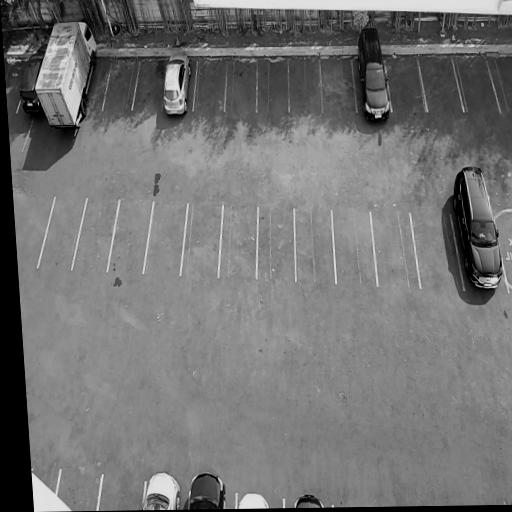Car: (28, 16, 97, 142), (447, 164, 508, 297), (354, 27, 391, 124), (158, 50, 195, 117), (17, 36, 48, 111), (188, 469, 226, 508), (141, 473, 181, 510), (237, 489, 269, 507), (295, 493, 323, 508)
Space Available: (409, 212, 465, 291), (39, 195, 86, 280), (370, 210, 419, 287), (332, 210, 377, 285), (143, 201, 187, 275), (108, 200, 152, 271), (74, 197, 117, 269), (285, 53, 323, 132), (295, 209, 335, 282), (182, 203, 222, 275), (257, 207, 296, 280), (319, 54, 357, 128), (219, 204, 258, 274), (455, 57, 502, 113), (254, 57, 289, 129), (419, 57, 464, 112), (385, 55, 426, 114), (223, 61, 257, 129), (131, 57, 164, 120), (102, 59, 138, 116), (194, 61, 223, 125), (59, 470, 103, 511), (99, 475, 146, 509), (496, 206, 512, 288), (495, 56, 512, 111)
